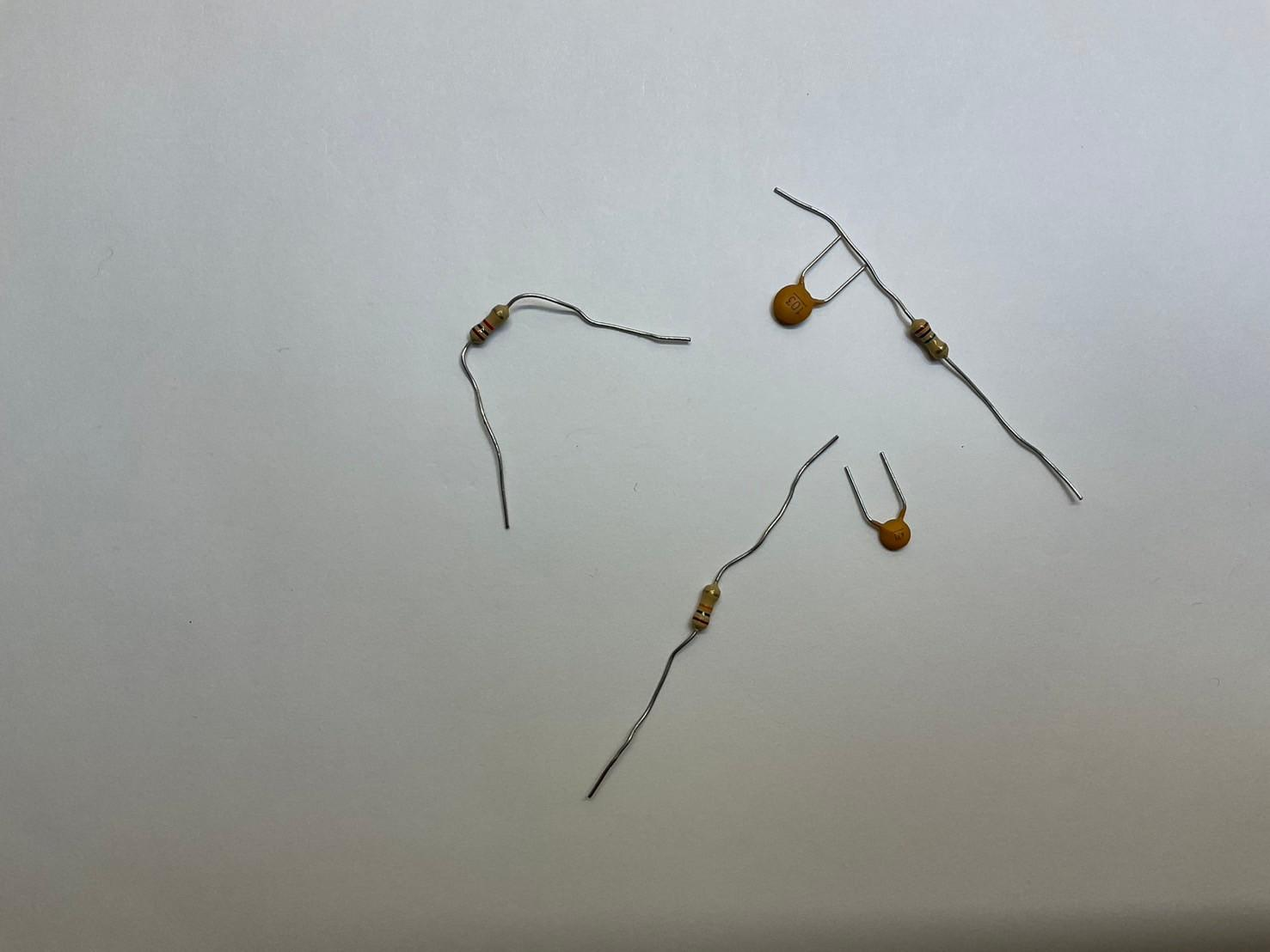resistor: (907, 319, 953, 363), (464, 304, 513, 345), (685, 584, 723, 632)
